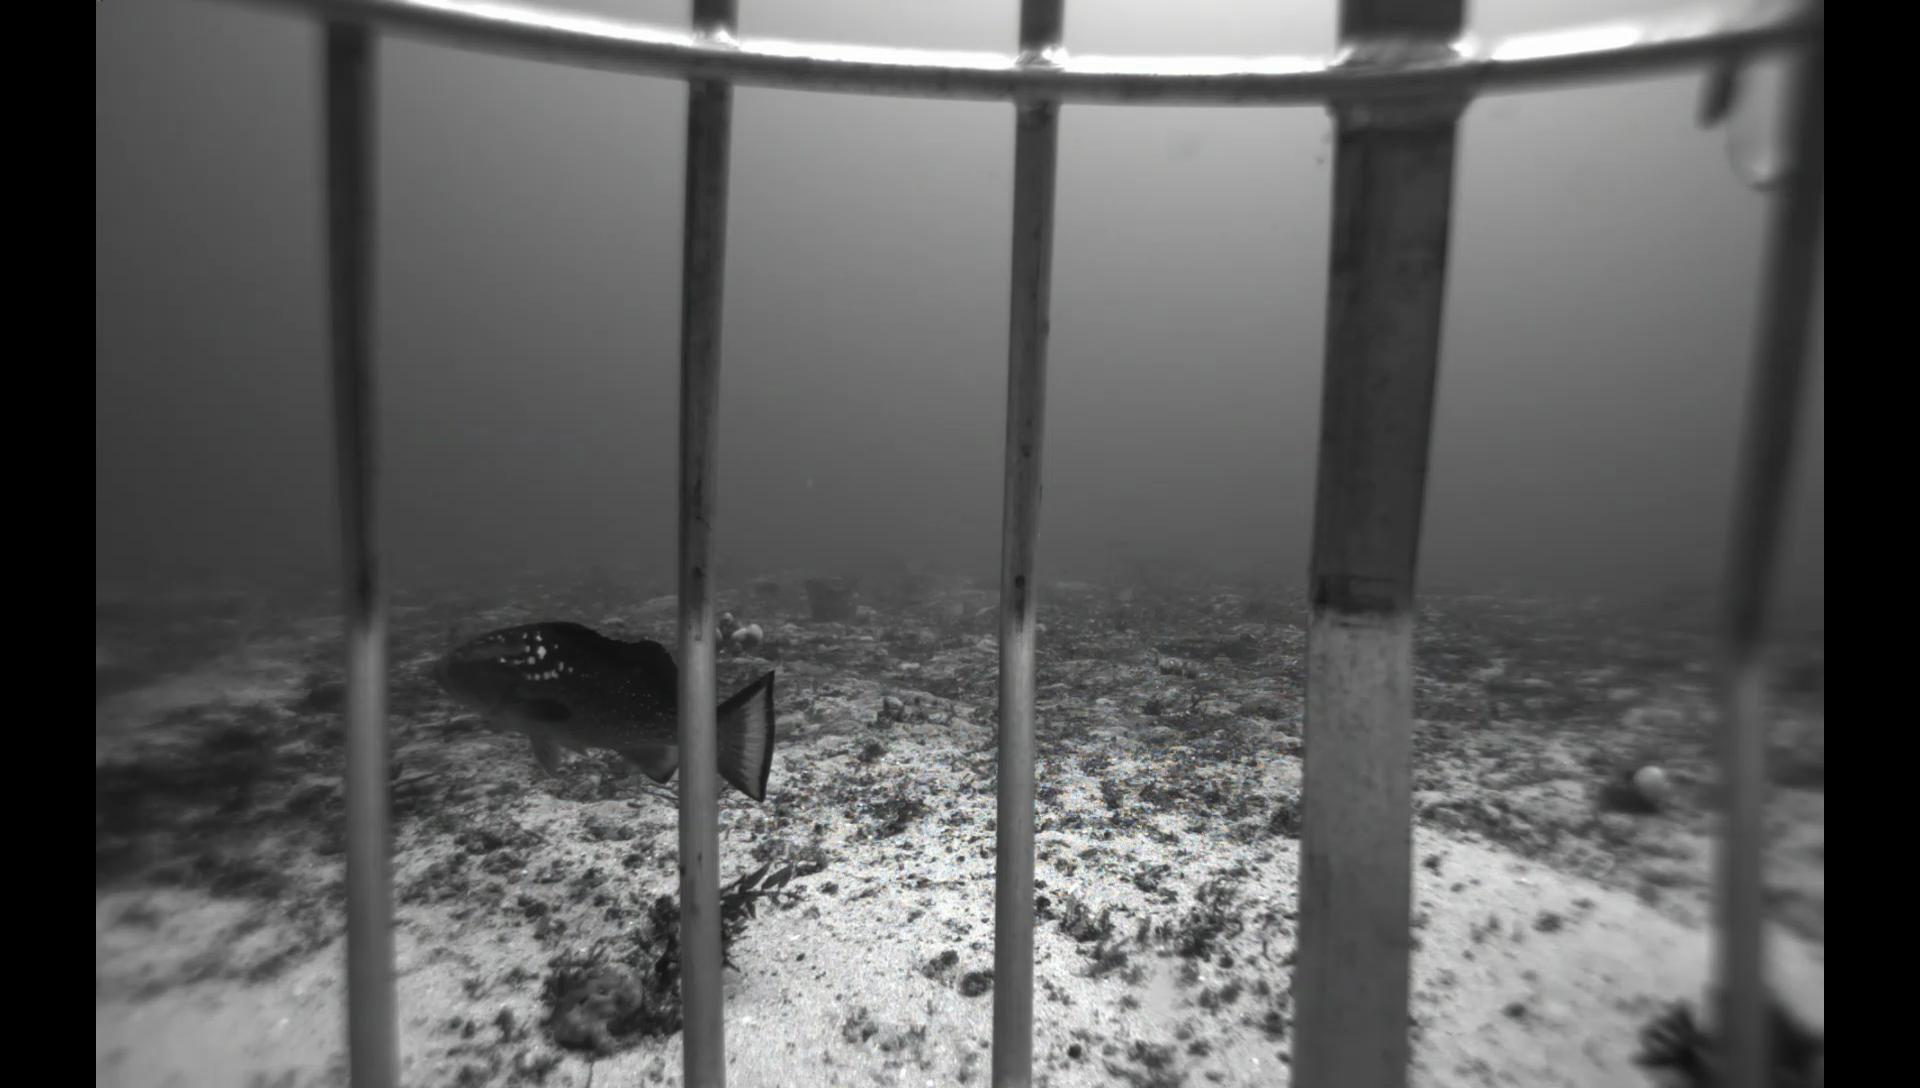CHAETODONOCELLATUS-170260307: (1100, 578, 1139, 607), (940, 597, 973, 620)
EPINEPHELUSMORIO-170021211: (404, 607, 814, 833)
PRISTIGENYSALTA-170050401: (294, 673, 344, 716)
